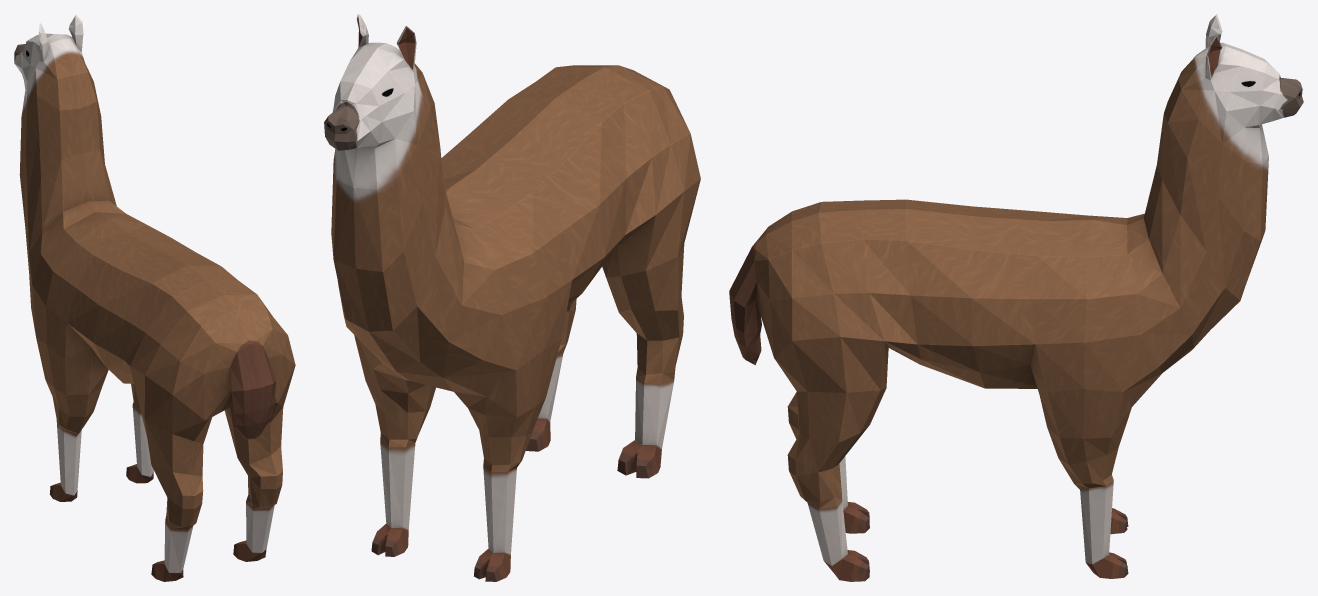
Rendered from Llama.obj.
The picture shows the model from 3 angles, left to right: view 1: azimuth 30°, elevation 25°; view 2: azimuth 150°, elevation 25°; view 3: azimuth 270°, elevation 25°; orthographic projection. The views are drawn at different scales.
Visible parts, largest first — view 1: Llama.obj; view 2: Llama.obj; view 3: Llama.obj.
Boxes of the visible parts, left/top/right/bottom form: Llama.obj: left=14, top=14, right=295, bottom=581; Llama.obj: left=324, top=14, right=700, bottom=581; Llama.obj: left=729, top=14, right=1303, bottom=581.
Bounding box in the file's own units: 0.4193 × 1.26 × 1.25.
